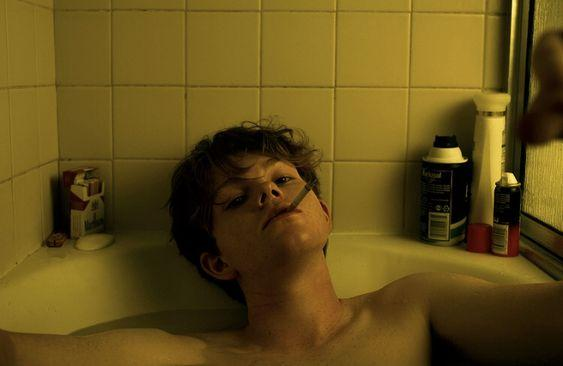cigarette: (287, 178, 316, 212)
